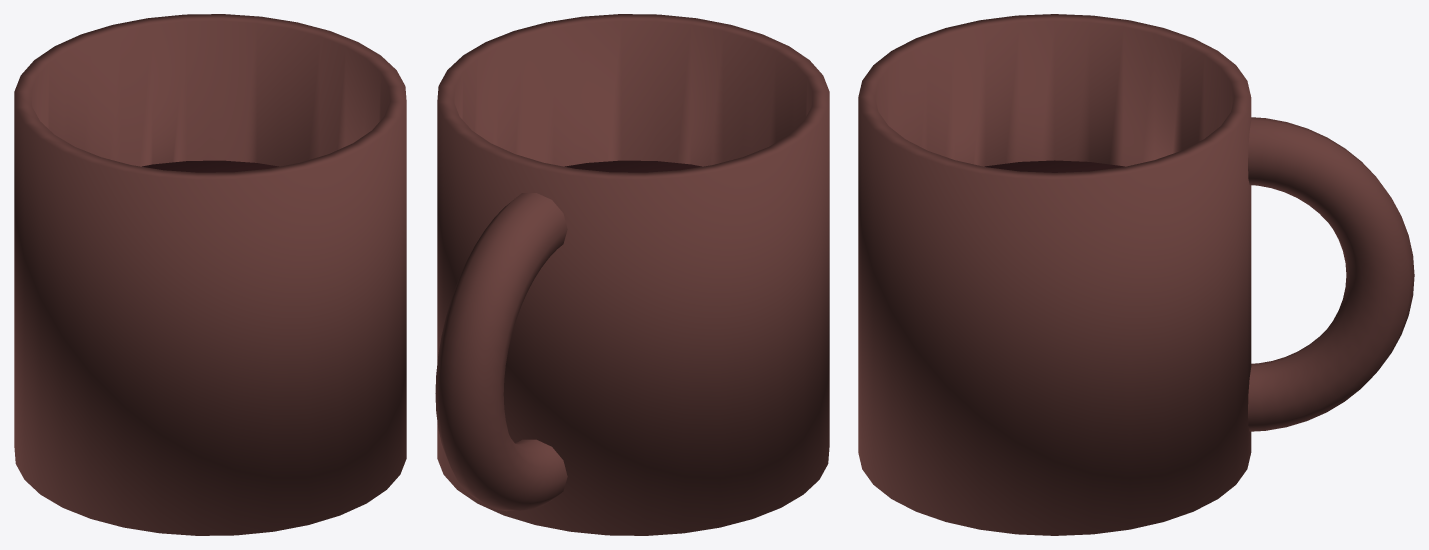
Rendered from kupa.fbx.
3 views of the same model, side by side, from view 1: azimuth 30°, elevation 25°; view 2: azimuth 150°, elevation 25°; view 3: azimuth 270°, elevation 25° (orthographic).
Visible parts, largest first — view 1: Cylinder; view 2: Cylinder; view 3: Cylinder.
Part boxes in pixels (x1,y1,x2,y2): Cylinder: (14,14,406,535); Cylinder: (435,14,829,535); Cylinder: (858,14,1414,535).
Size of the model in its own units: 410 by 410 by 580.
